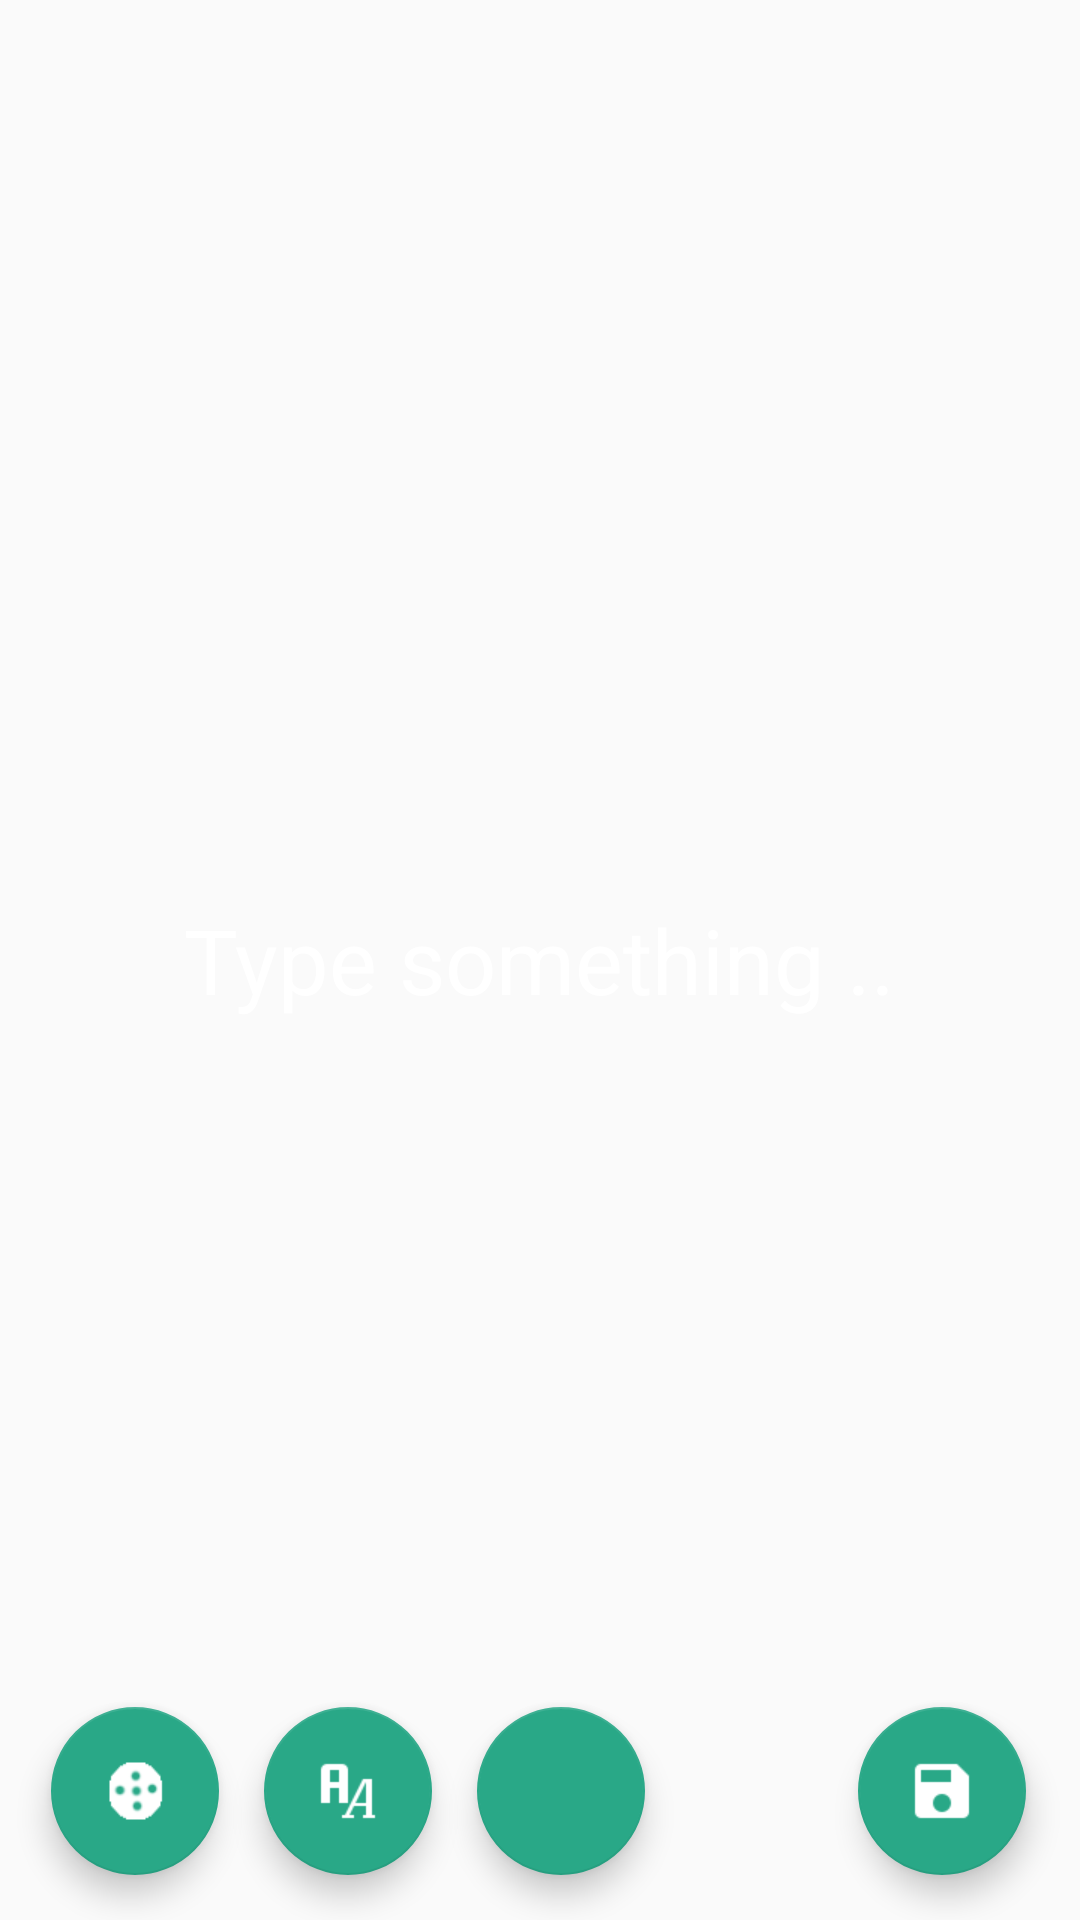

Icons on this 1080w x 1920h Android screen, each with the point to tap as point (x, y):
save: point (942, 1791)
